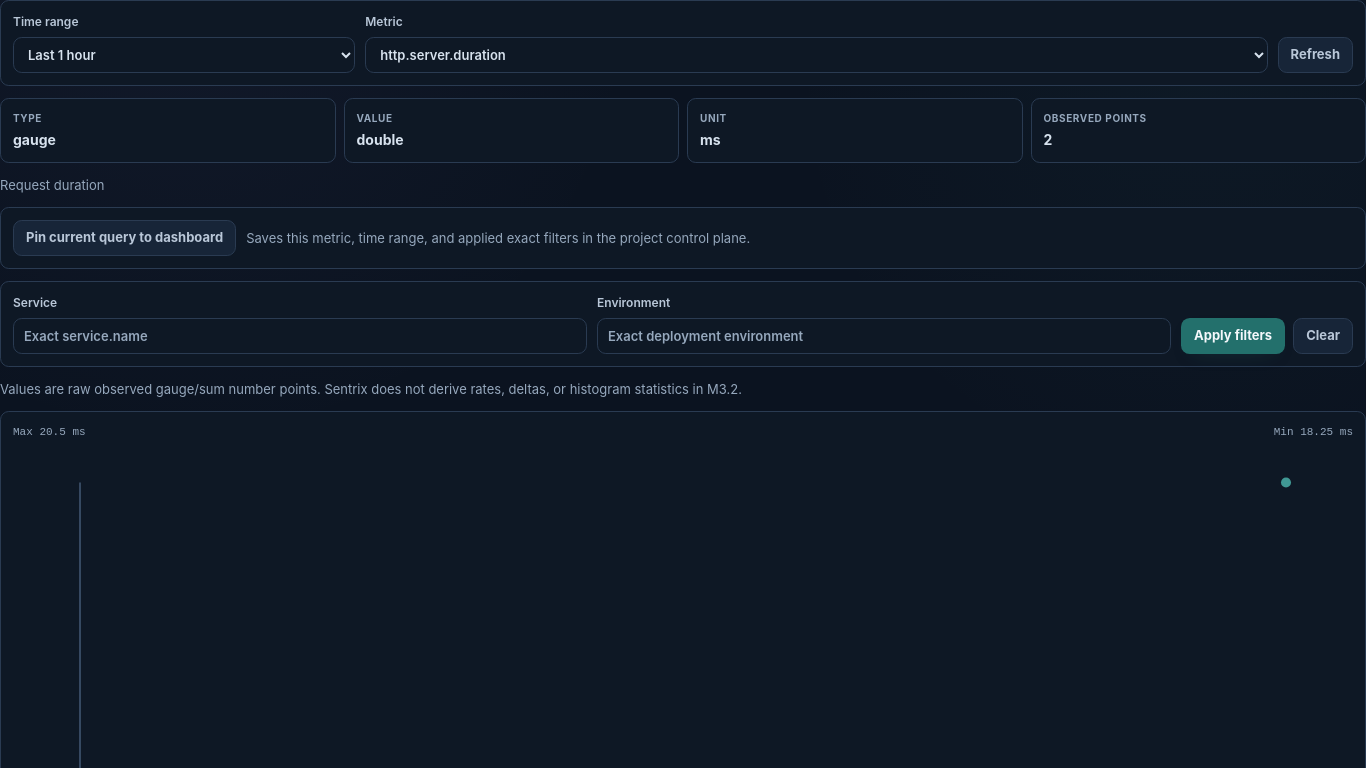
Test: MetricsExplorer › pins the current numeric query to the project dashboard for writers
The image size is (1366, 768).
Type "checkout" into the field labelled "Service" at (300, 336), box [13,318,587,354]
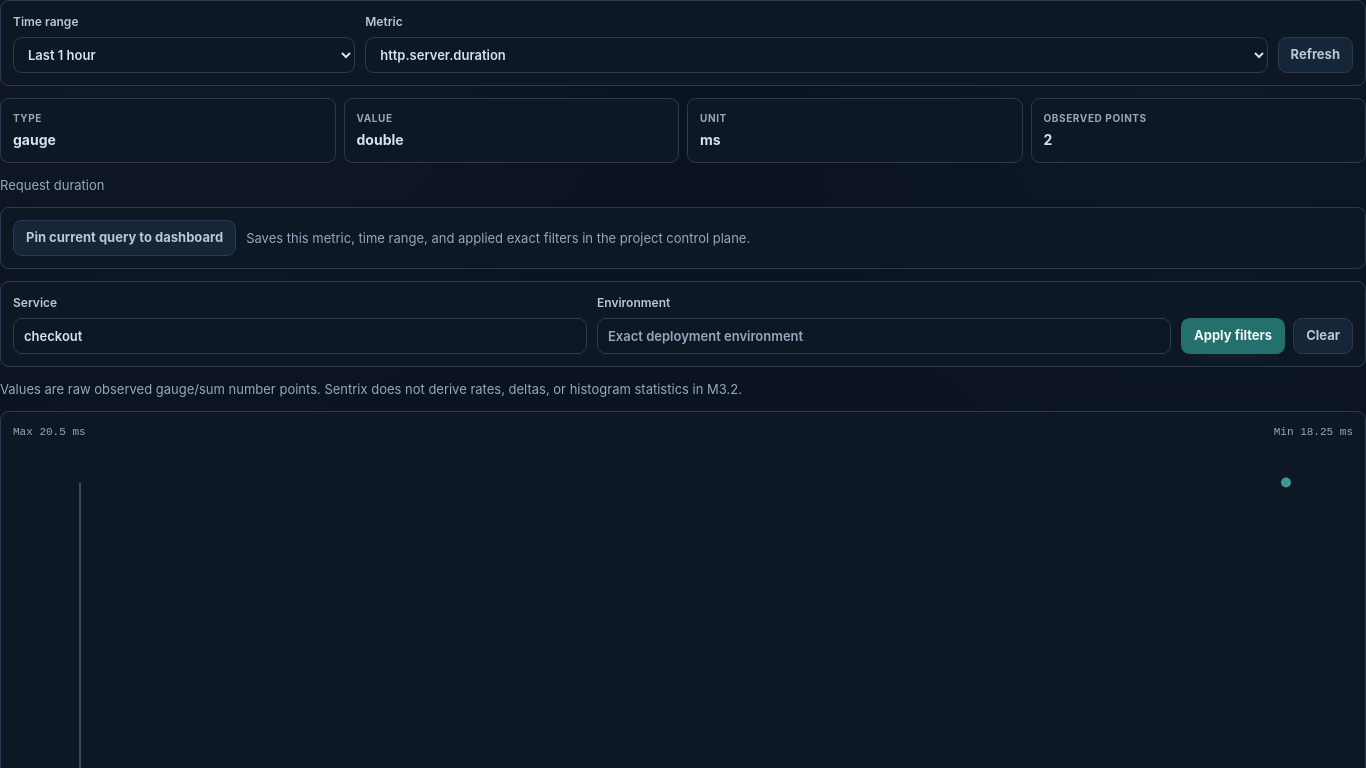
Type "production" into the field labelled "Environment" at (884, 336), box [597,318,1171,354]
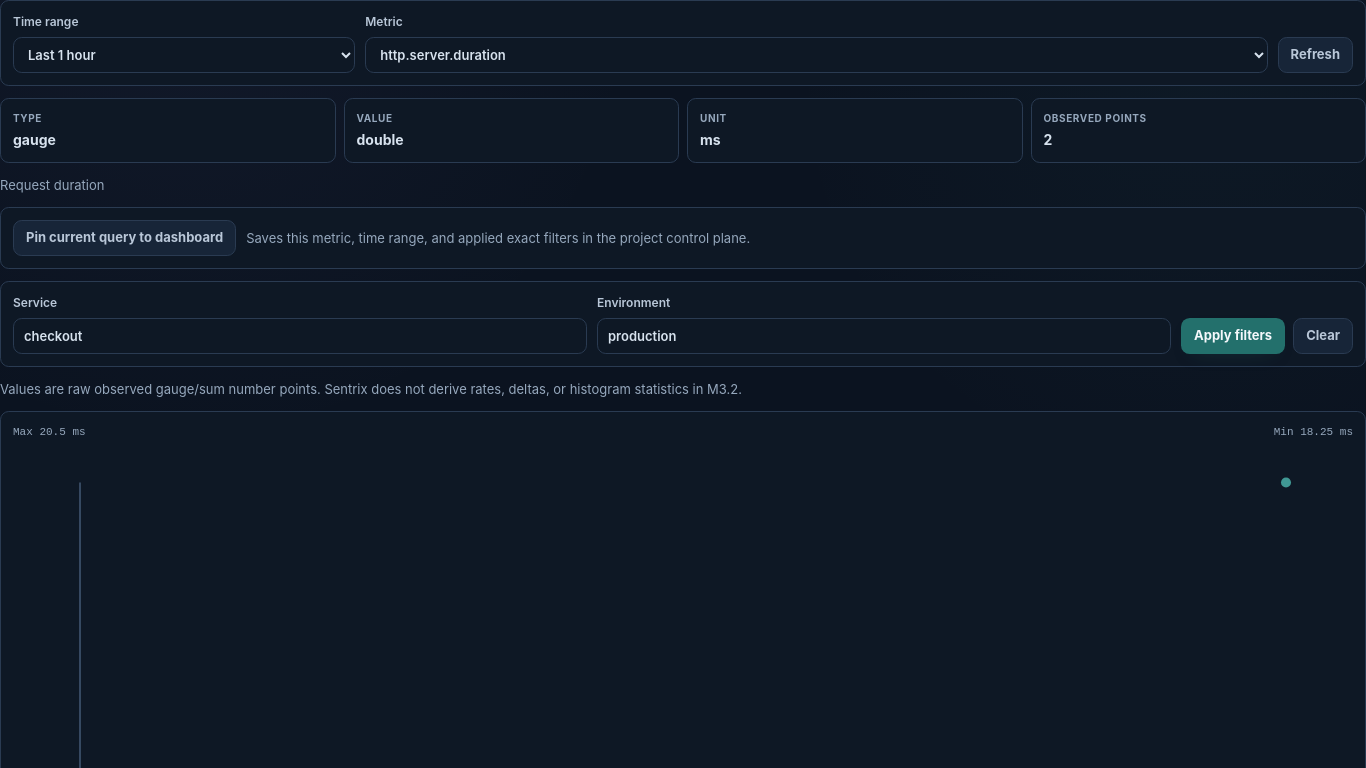
Click the button "Apply filters" at (1233, 336), box [1181,318,1285,354]
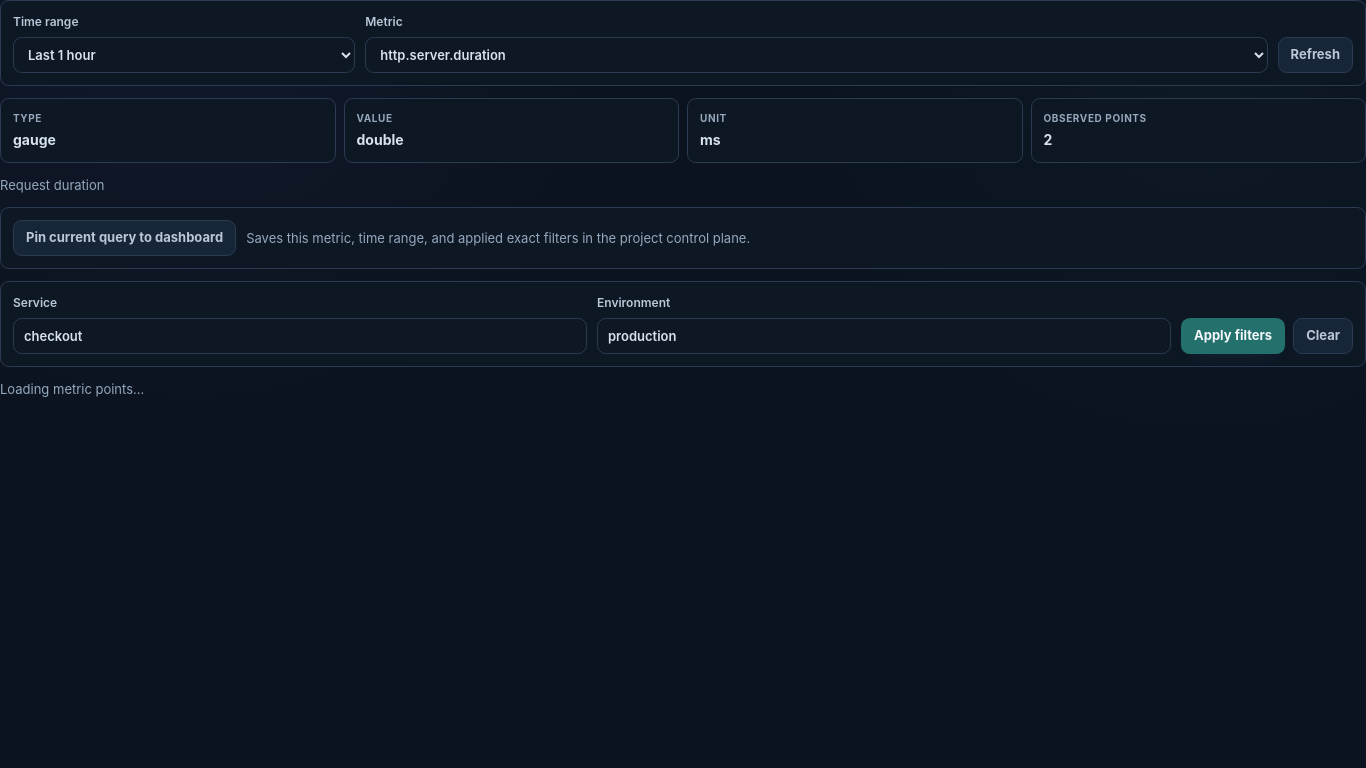
Click the button "Pin current query to dashboard" at (125, 238), box [13,220,236,256]
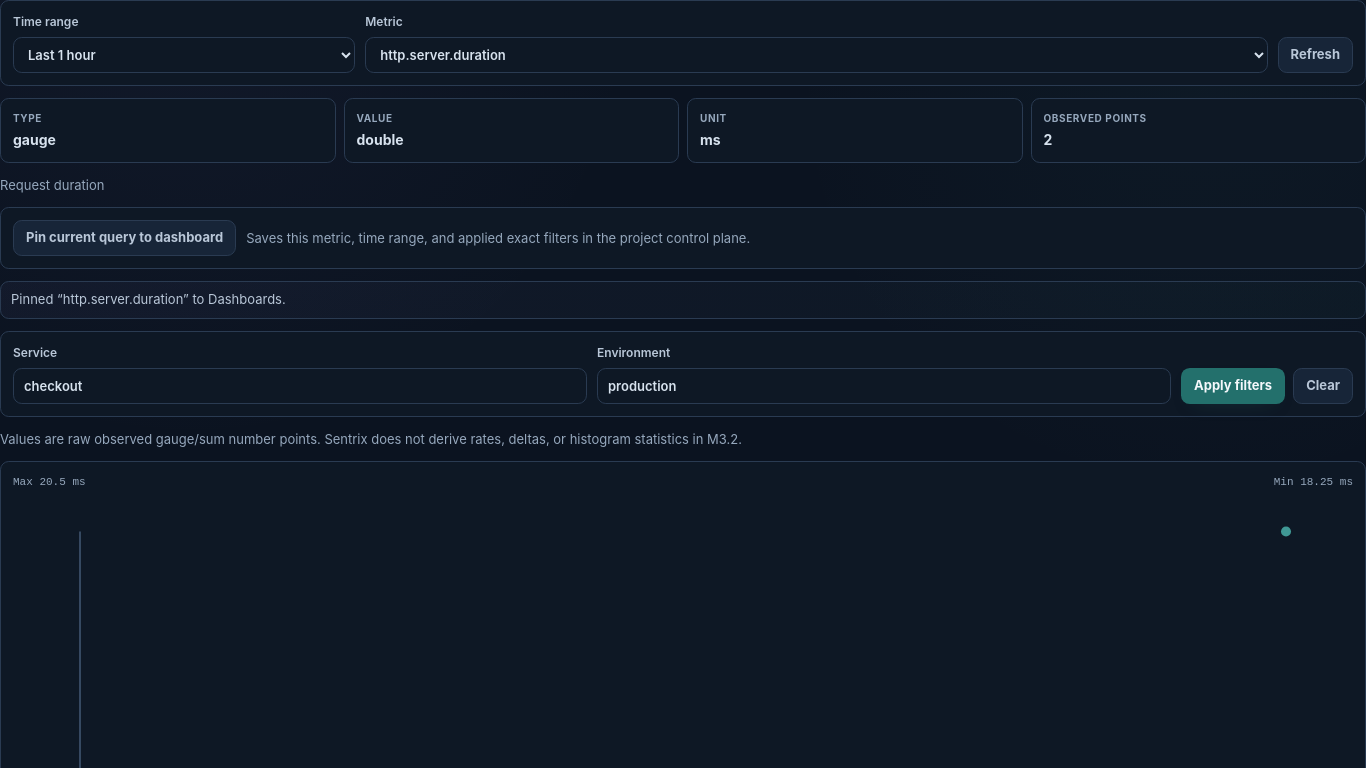
Now the text "Pinned “http.server.duration” to Dashboards." is shown, box [0,281,1365,318]
